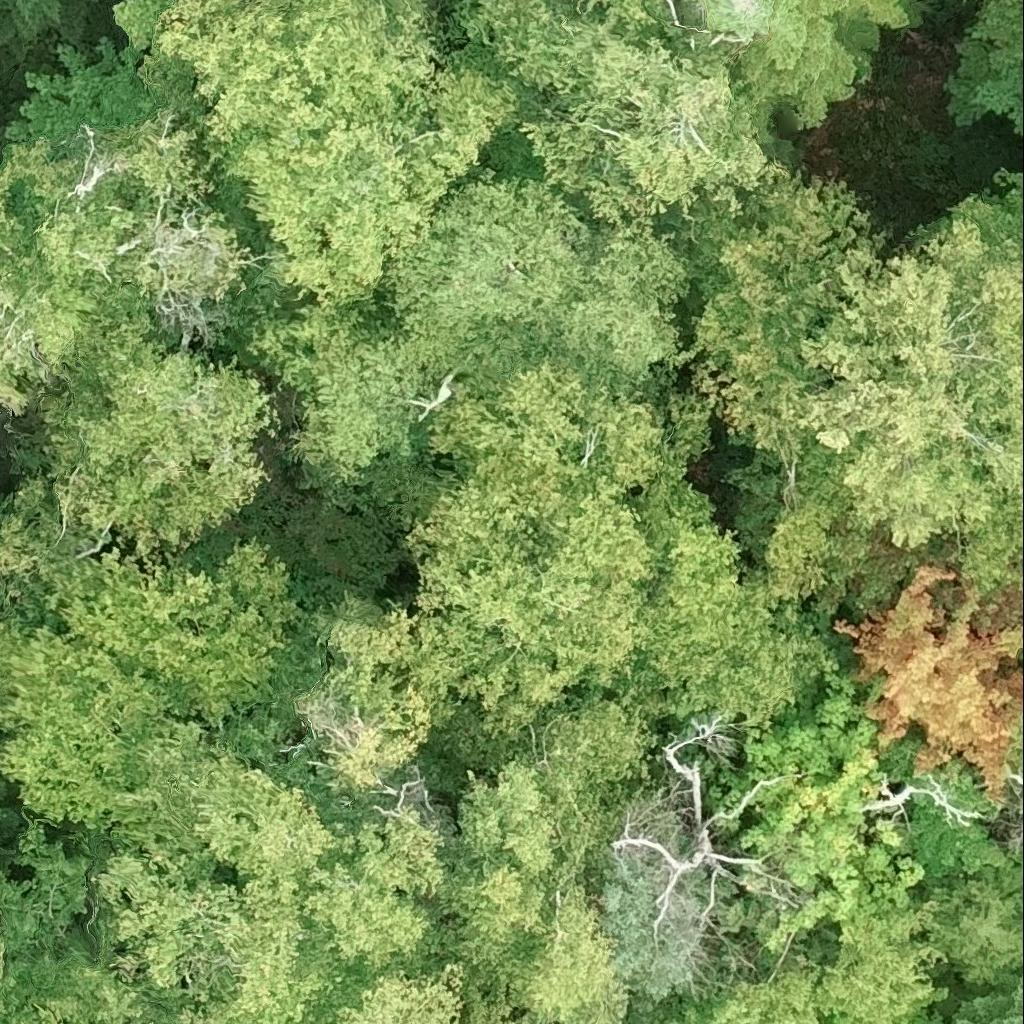crown: (0, 111, 273, 615), (394, 357, 713, 736), (139, 0, 521, 309), (651, 166, 884, 606), (794, 203, 1023, 598), (385, 152, 696, 410), (446, 0, 788, 221), (222, 592, 445, 854), (23, 535, 315, 732), (612, 477, 833, 736), (834, 525, 1023, 802), (90, 855, 377, 1023), (619, 716, 810, 957), (591, 845, 842, 1023), (0, 632, 191, 857), (251, 285, 460, 483), (736, 692, 922, 911), (113, 717, 346, 890), (420, 873, 630, 1023), (294, 804, 468, 978), (757, 880, 952, 1023), (518, 697, 662, 889), (443, 758, 574, 961), (699, 0, 907, 124), (0, 818, 89, 1023), (9, 928, 174, 1023), (926, 862, 1023, 991), (669, 953, 826, 1023), (944, 0, 1023, 139), (907, 795, 1014, 884), (338, 962, 465, 1023), (857, 774, 979, 826), (0, 0, 91, 62), (0, 607, 51, 672), (975, 971, 1023, 1023), (7, 994, 74, 1023), (1005, 724, 1023, 774), (957, 1001, 984, 1023), (905, 1010, 948, 1023), (1004, 766, 1023, 791), (1010, 557, 1023, 576), (1012, 824, 1023, 846), (816, 1016, 839, 1023), (1018, 655, 1023, 669), (1022, 586, 1023, 587)
